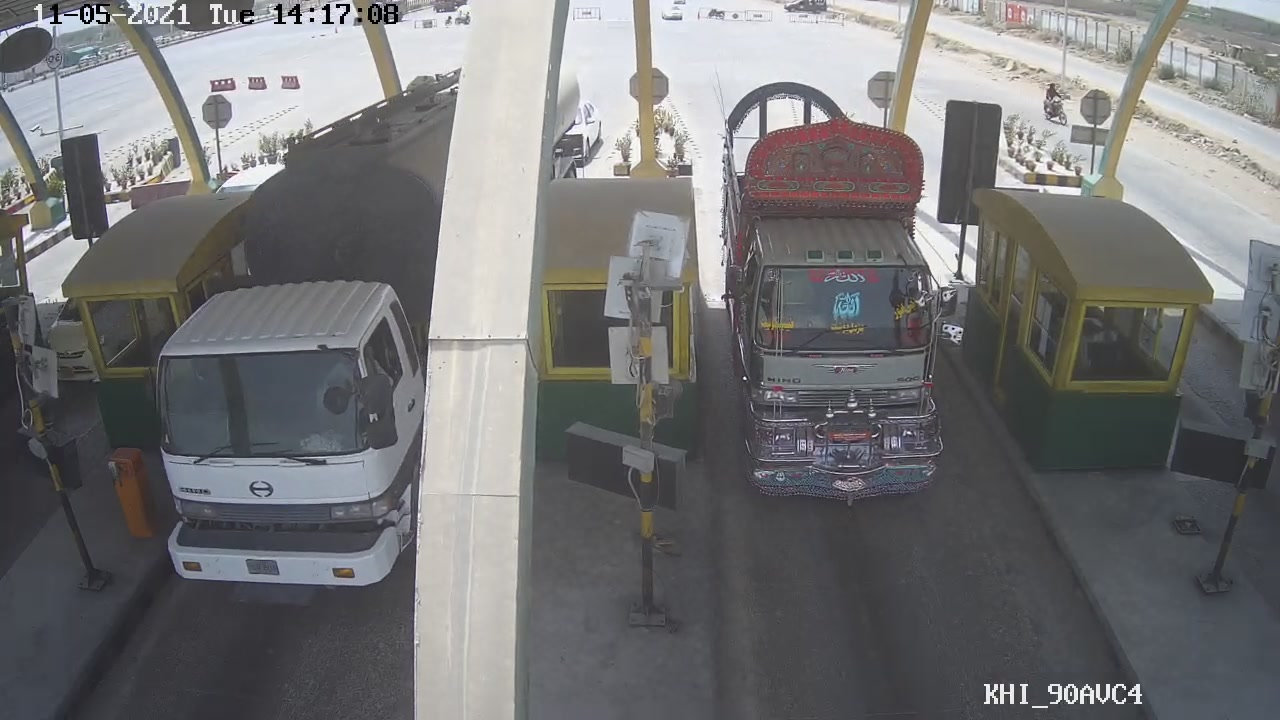F5: (706, 113, 959, 515)
